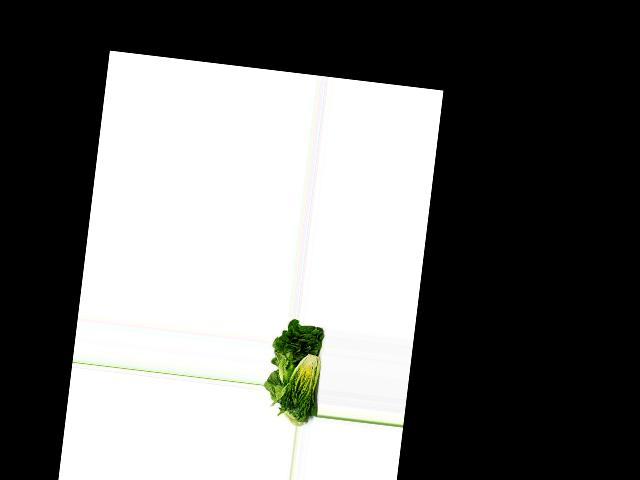lettuce: (268, 318, 328, 386)
